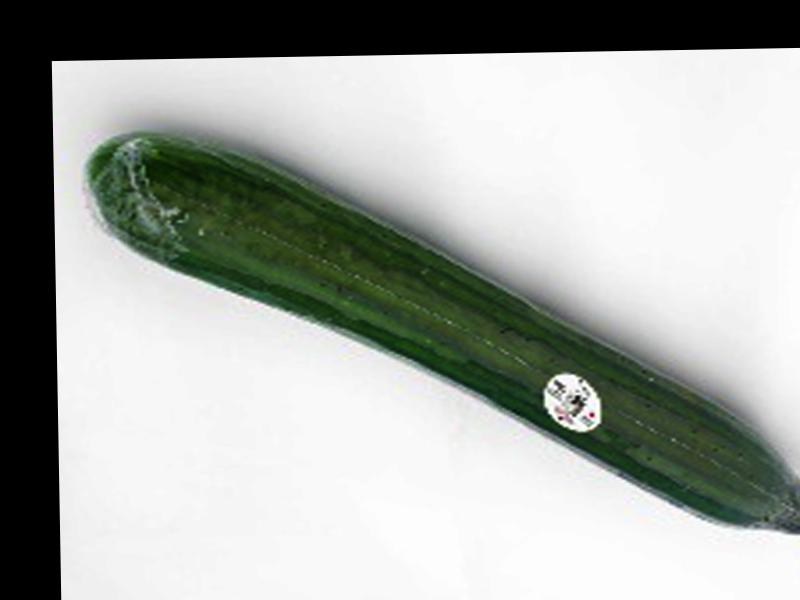Cucumber: (92, 126, 800, 548)
